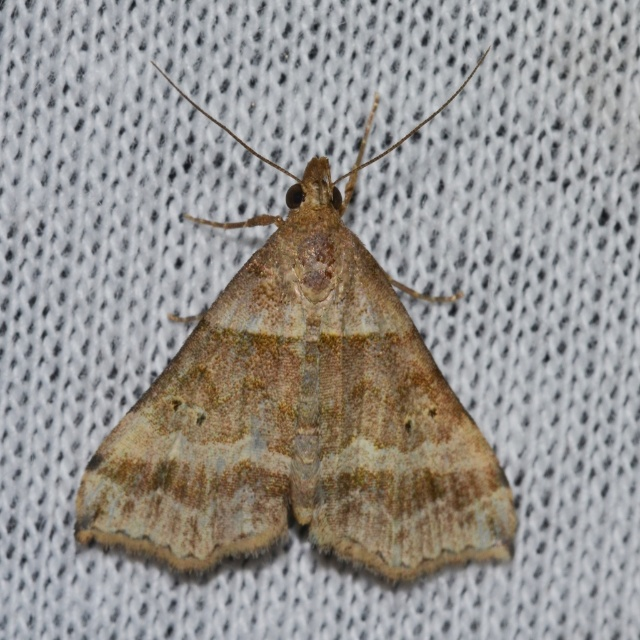Butterfly: (77, 40, 522, 577)
